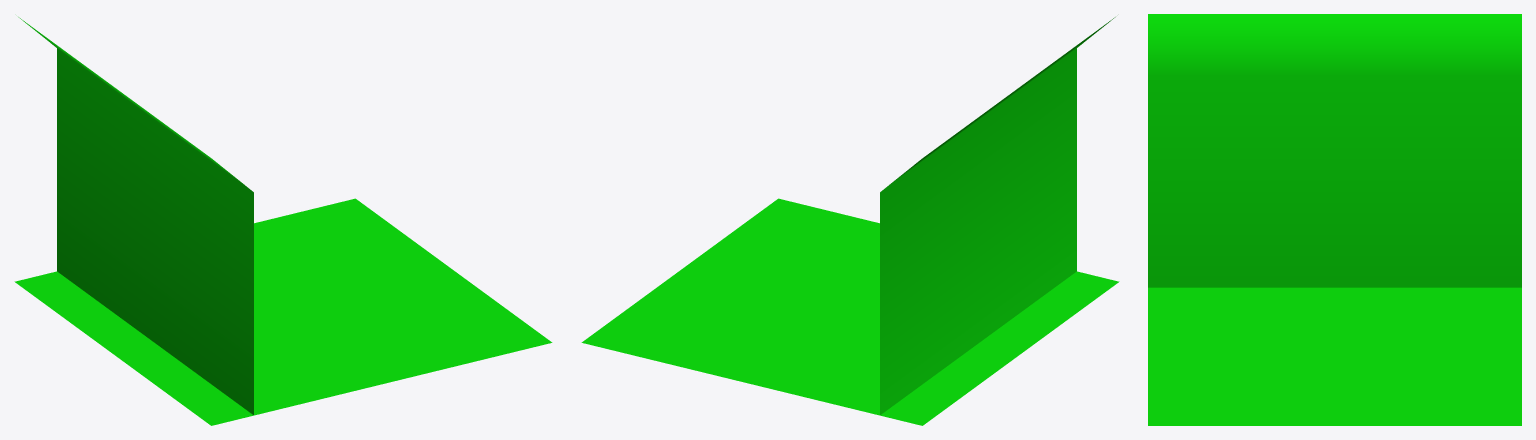
Rendered from mesh_hedge_S.fbx.
The picture shows the model from 3 angles, left to right: view 1: azimuth 30°, elevation 25°; view 2: azimuth 150°, elevation 25°; view 3: azimuth 270°, elevation 25°; orthographic projection. The views are drawn at different scales.
Parts seen in each view (by area): view 1: mesh_hedge_S; view 2: mesh_hedge_S; view 3: mesh_hedge_S.
Part boxes in pixels (bbox=[...]): mesh_hedge_S: bbox=[14, 17, 552, 425]; mesh_hedge_S: bbox=[581, 17, 1119, 425]; mesh_hedge_S: bbox=[1148, 14, 1521, 425].
Size of the model in its own units: 400 by 300 by 400.
